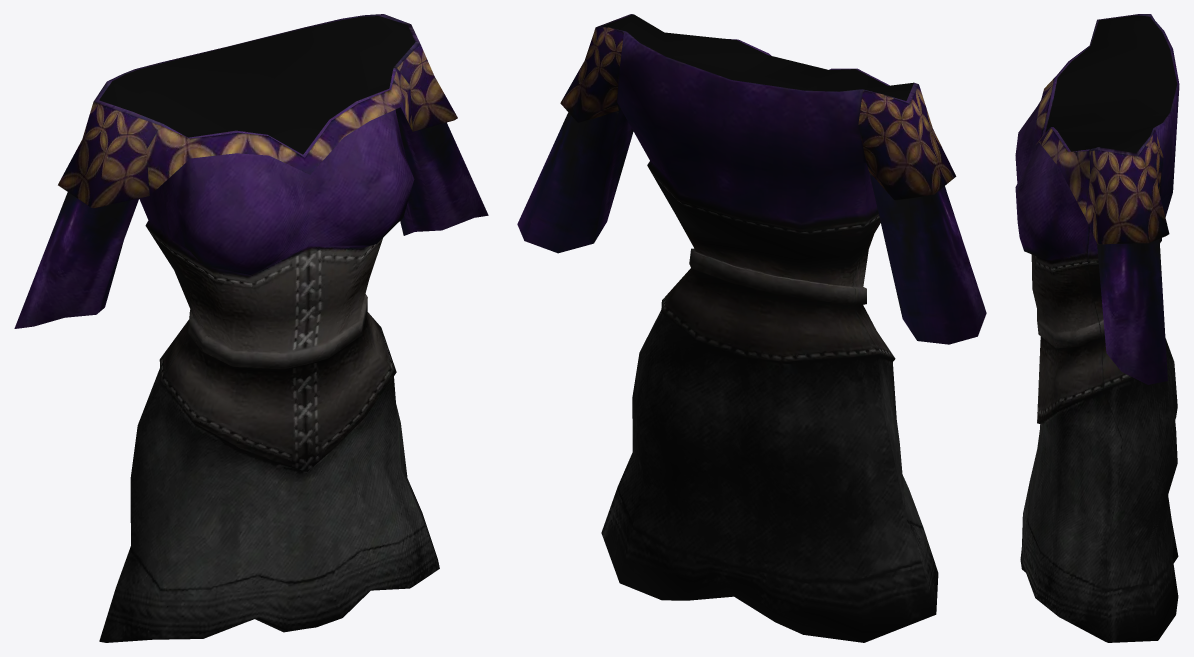
File: STATIC_GS_SLAV_BABE_04_KOZA.glb
The picture shows the model from 3 angles, left to right: view 1: azimuth 30°, elevation 25°; view 2: azimuth 150°, elevation 25°; view 3: azimuth 270°, elevation 25°; orthographic projection. The views are drawn at different scales.
Visible parts, largest first — view 1: Mesh; view 2: Mesh; view 3: Mesh.
Part boxes in pixels (left/top/right/bottom): Mesh: left=14, top=14, right=488, bottom=642; Mesh: left=517, top=14, right=986, bottom=642; Mesh: left=1015, top=14, right=1179, bottom=642.
Bounding box in the file's own units: 0.6236 × 0.7127 × 0.2074.
1 material, 1 textured.
